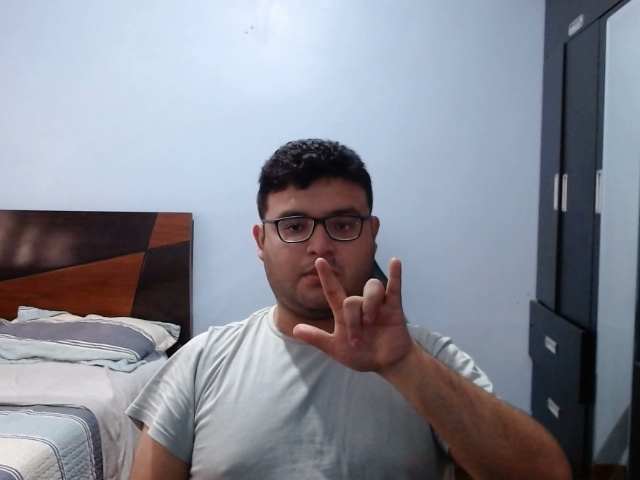I love you: (291, 251, 421, 379)
